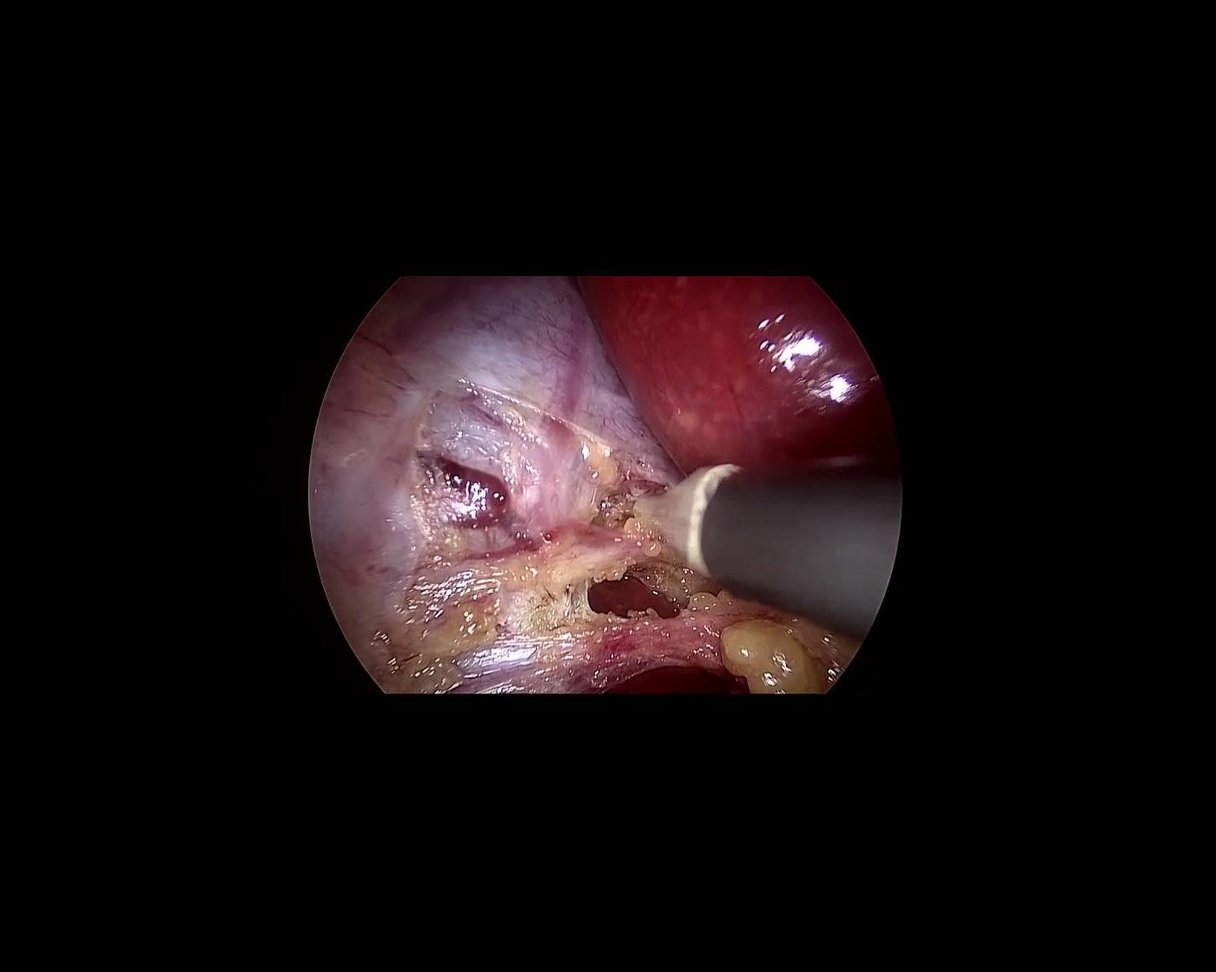Cautery: (616, 382, 922, 642)
Gallbladder: (311, 275, 616, 693)
Liver: (577, 255, 898, 480)
